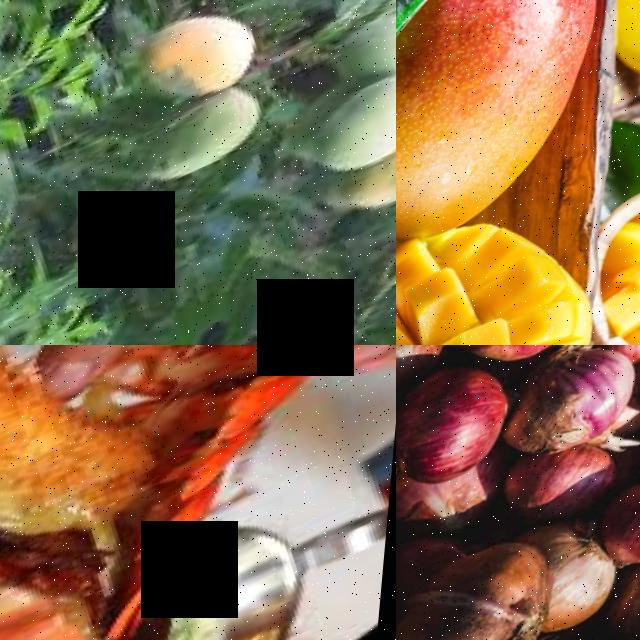mango: (396, 0, 640, 274), (128, 0, 276, 123), (130, 81, 278, 196), (304, 68, 396, 191), (324, 0, 396, 103), (338, 134, 396, 233)
onion: (396, 520, 596, 640), (396, 353, 535, 497), (492, 345, 640, 476), (438, 345, 593, 384), (602, 469, 640, 577)
